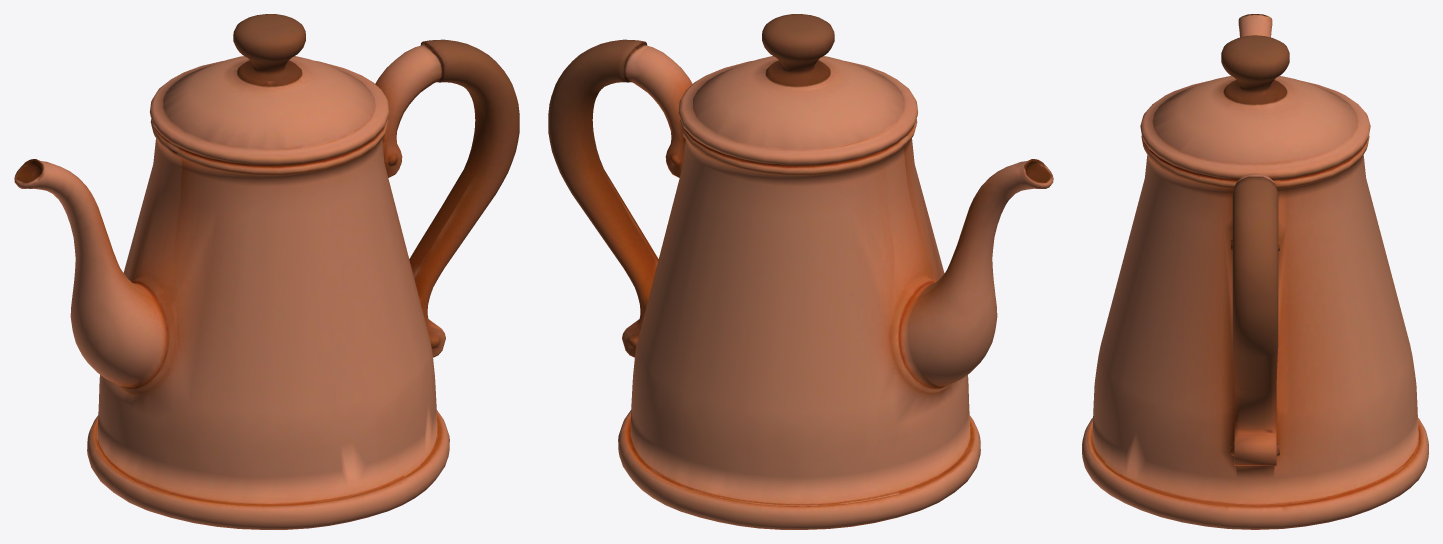
Rendered from Decor__a_copper_kettle_2460e3fd_v2.cluster.glb.
3 views of the same model, side by side, from view 1: azimuth 30°, elevation 25°; view 2: azimuth 150°, elevation 25°; view 3: azimuth 270°, elevation 25° (orthographic). The views are drawn at different scales.
Parts seen in each view (by area): view 1: material; view 2: material; view 3: material.
Boxes of the visible parts, bbox=[...] form: material: bbox=[14, 14, 519, 529]; material: bbox=[548, 14, 1053, 529]; material: bbox=[1082, 14, 1428, 529].
Bounding box in the file's own units: 1.9 × 1.58 × 1.2.
Materials: 1 (1 with a texture image).
